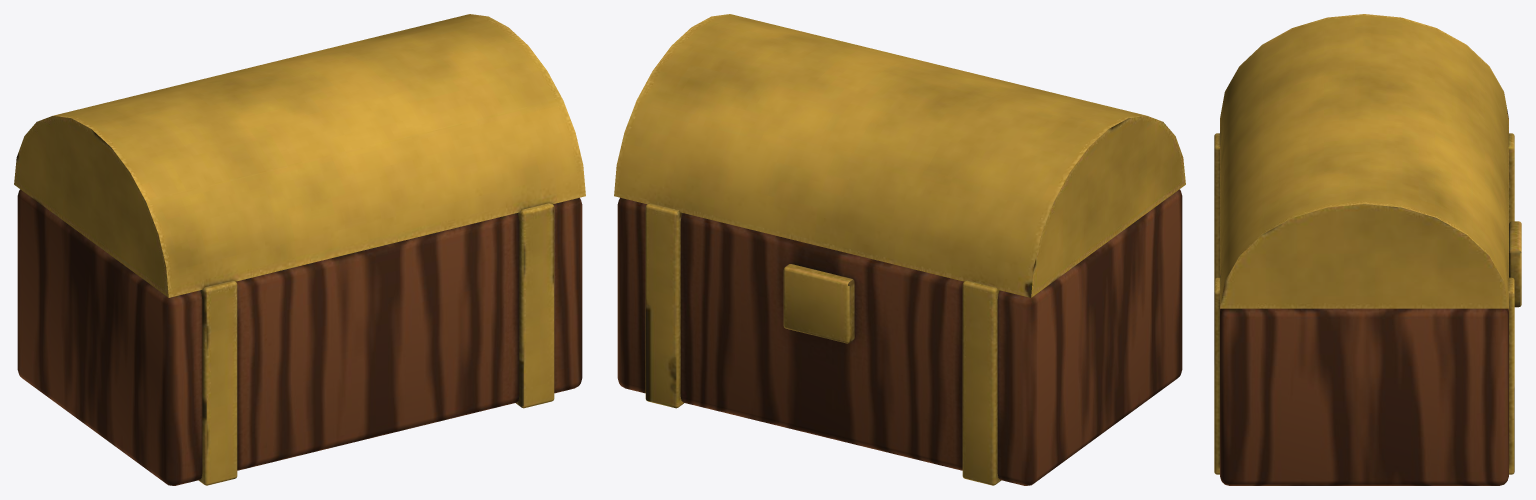
The picture shows the model from 3 angles, left to right: view 1: azimuth 30°, elevation 25°; view 2: azimuth 150°, elevation 25°; view 3: azimuth 270°, elevation 25°; orthographic projection. The views are drawn at different scales.
Parts seen in each view (by area): view 1: anim_Chest_gold_0, Chest_wood, Chest_gold; view 2: anim_Chest_gold_0, Chest_wood, Chest_gold; view 3: anim_Chest_gold_0, Chest_wood, Chest_gold.
Part boxes in pixels (box(x1,y1,x2,y2)): anim_Chest_gold_0: box(14, 14, 585, 297); Chest_wood: box(17, 189, 582, 485); Chest_gold: box(198, 203, 554, 485); anim_Chest_gold_0: box(614, 14, 1185, 297); Chest_wood: box(617, 189, 1182, 485); Chest_gold: box(645, 203, 1001, 485); anim_Chest_gold_0: box(1220, 14, 1508, 308); Chest_wood: box(1220, 308, 1508, 485); Chest_gold: box(1214, 133, 1521, 474).
Bounding box in the file's own units: 1.4 × 0.9862 × 0.958.
Materials: 3 (2 with a texture image).
